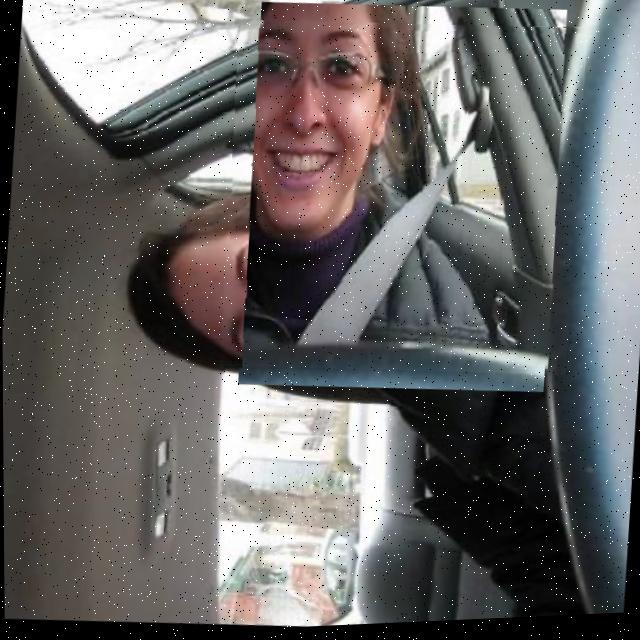seatbelt: (215, 10, 587, 391)
